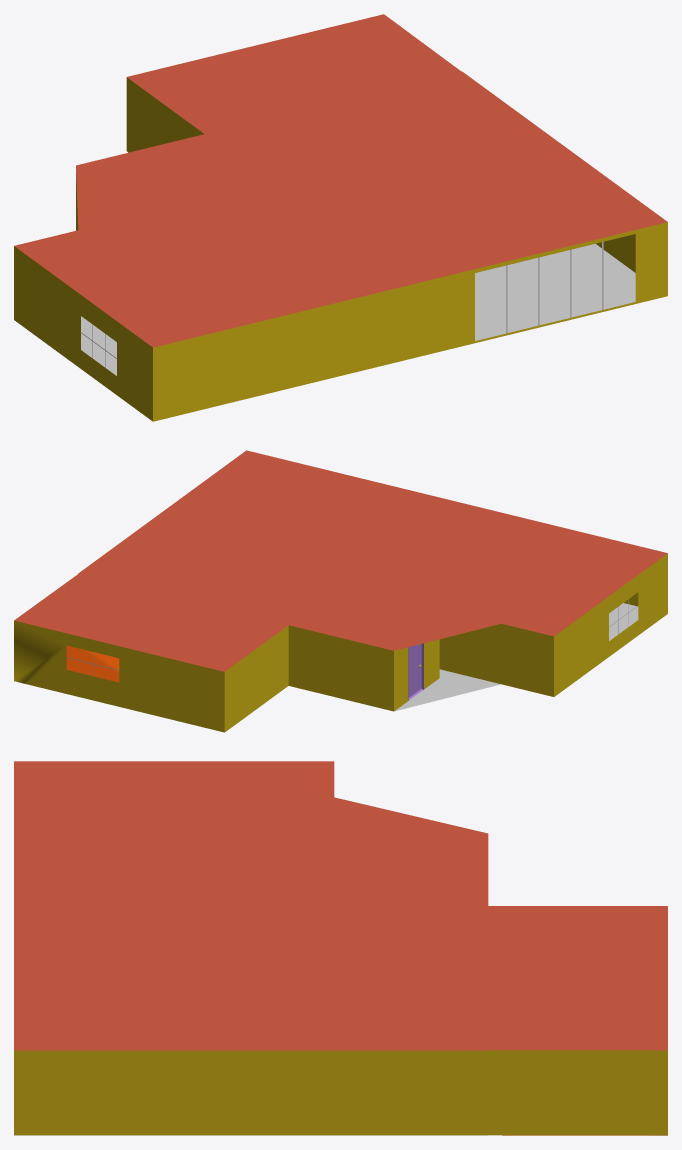
File: Apartment.fbx
3 views of the same model, one above another, from view 1: azimuth 30°, elevation 25°; view 2: azimuth 150°, elevation 25°; view 3: azimuth 270°, elevation 25° (orthographic). The views are drawn at different scales.
Visible parts, largest first — view 1: Apartment; view 2: Apartment; view 3: Apartment.
Boxes of the visible parts, x1,y1,x2,y2 form: Apartment: (14, 14, 667, 421); Apartment: (14, 450, 667, 732); Apartment: (14, 761, 667, 1135).
Bounding box in the file's own units: 2909 × 402 × 2779.
